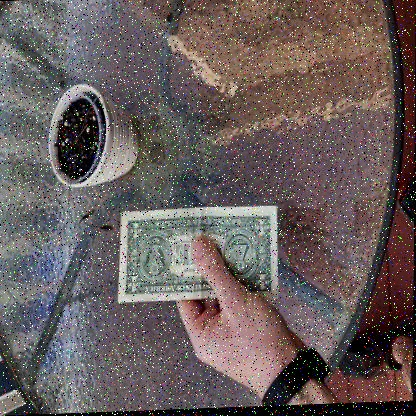one-back: (114, 203, 280, 307)
